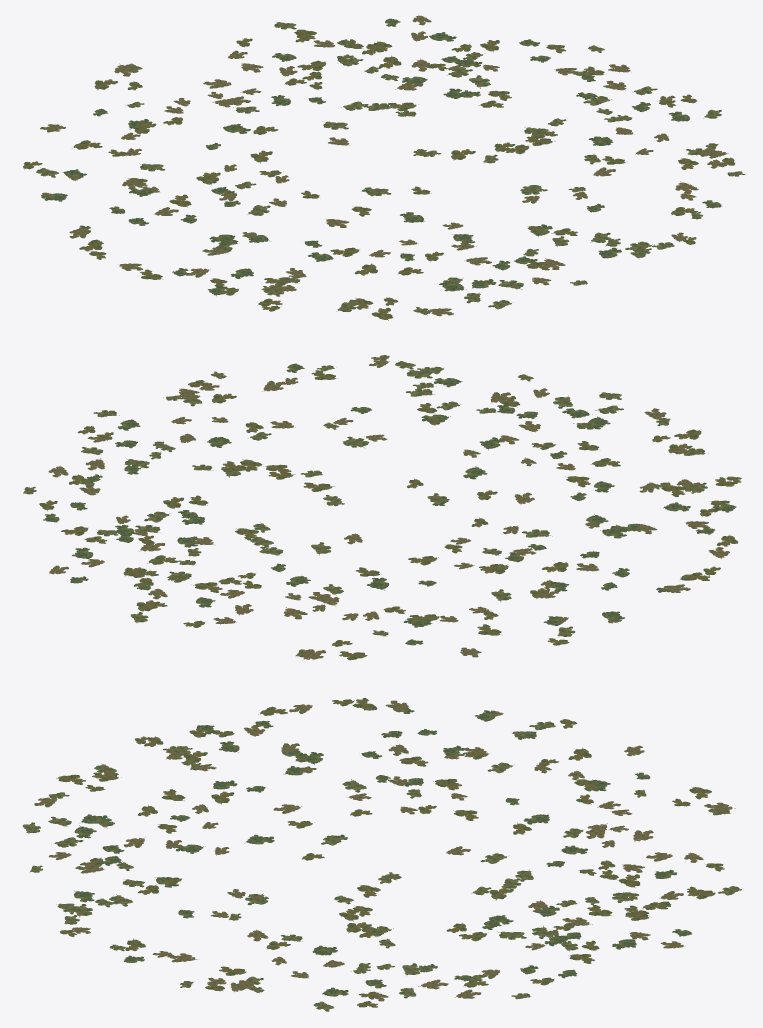
The model's file is aulne_adulte_b.fbx.
3 views of the same model, one above another, from view 1: azimuth 30°, elevation 25°; view 2: azimuth 150°, elevation 25°; view 3: azimuth 270°, elevation 25° (orthographic). The views are drawn at different scales.
Visible parts, largest first — view 1: aulne_adulte_b_feuilles_sol; view 2: aulne_adulte_b_feuilles_sol; view 3: aulne_adulte_b_feuilles_sol.
Boxes of the visible parts, x1,y1,x2,y2 form: aulne_adulte_b_feuilles_sol: [23, 15, 745, 320]; aulne_adulte_b_feuilles_sol: [23, 355, 741, 660]; aulne_adulte_b_feuilles_sol: [23, 698, 741, 1011].
Size of what is drawn, in the model's own units: 9.79 by 0.00597 by 9.54.
